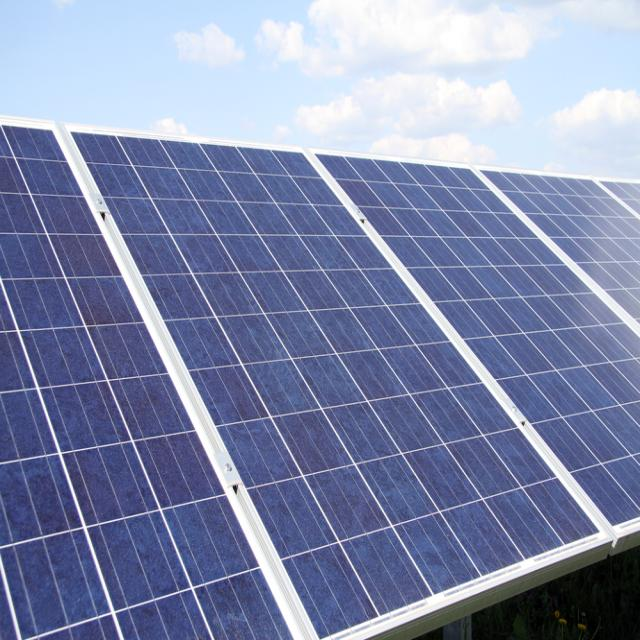clean-solar-panel: (0, 119, 640, 640)
